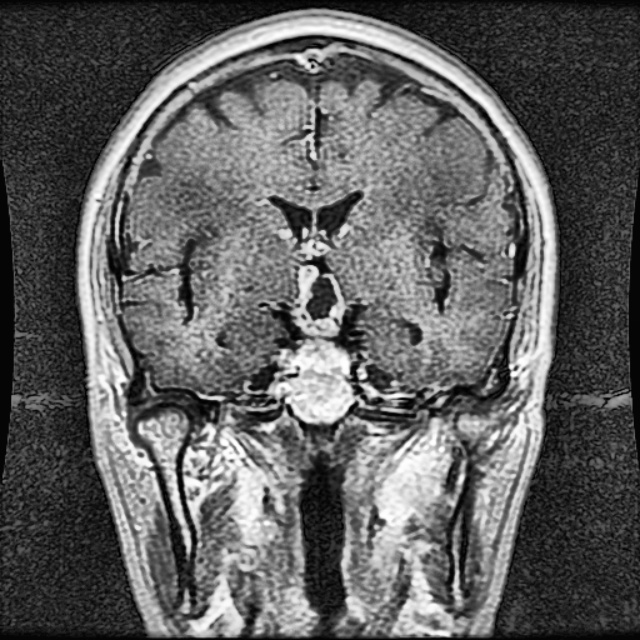Pituitary: (283, 267, 347, 375)
